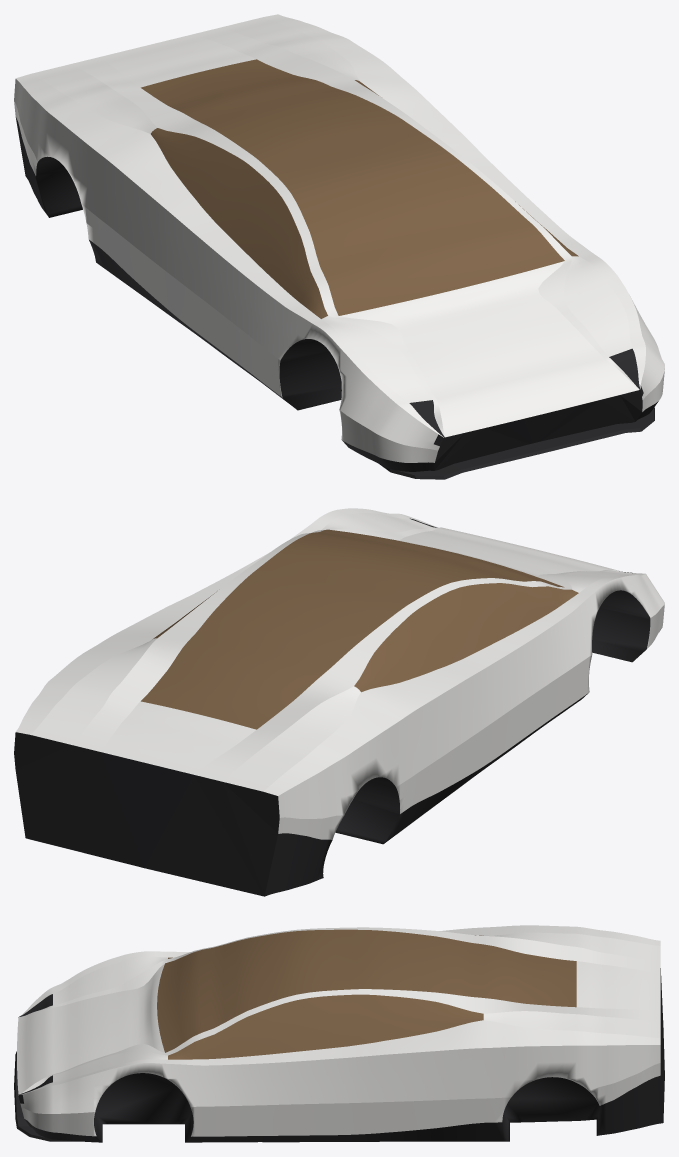
The model's file is roadster.glb.
The picture shows the model from 3 angles, top to bottom: view 1: azimuth 30°, elevation 25°; view 2: azimuth 150°, elevation 25°; view 3: azimuth 270°, elevation 25°; orthographic projection. The views are drawn at different scales.
Parts seen in each view (by area): view 1: Body, Splitter; view 2: Body; view 3: Body, Splitter.
Part boxes in pixels (<box>): Body: <box>14,14,664,471</box>; Splitter: <box>379,407,654,479</box>; Body: <box>14,508,664,896</box>; Body: <box>17,925,664,1142</box>; Splitter: <box>14,1051,79,1141</box>.
Size of the model in its own units: 2 by 0.9872 by 4.42.
